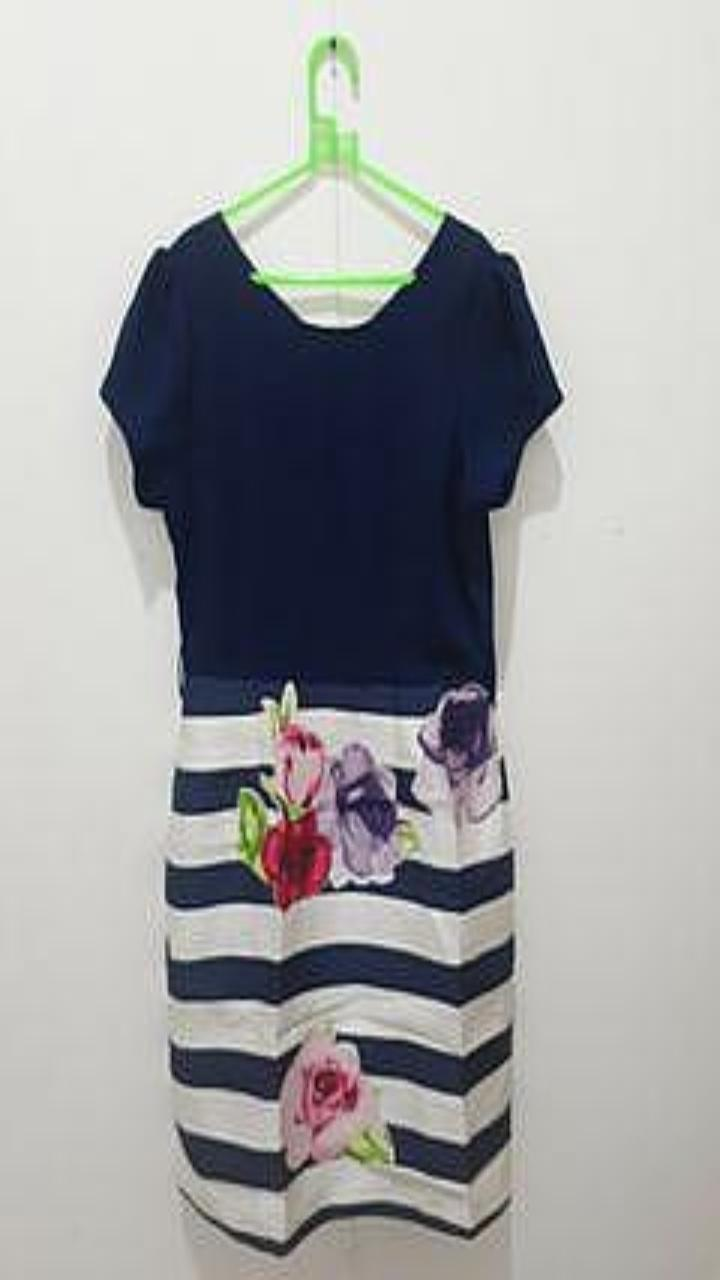Dresses: (101, 211, 562, 1252)
